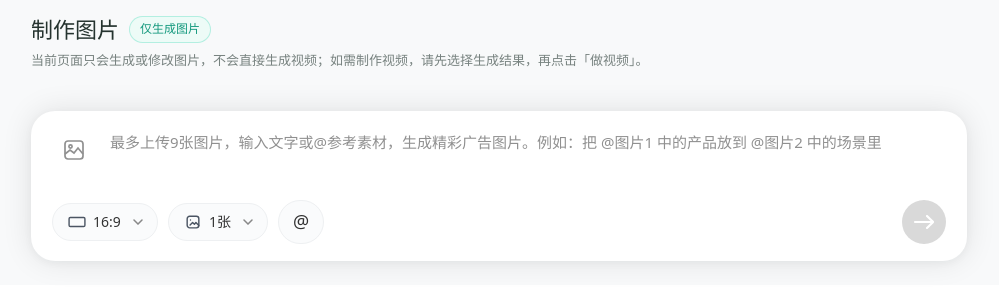
ImageChat › keeps the composer when paid confirmation is cancelled and prevents duplicate submits while confirming
In the text box named "图片创作描述": (528, 157) [110, 128, 946, 186], type "保留这条提示词"
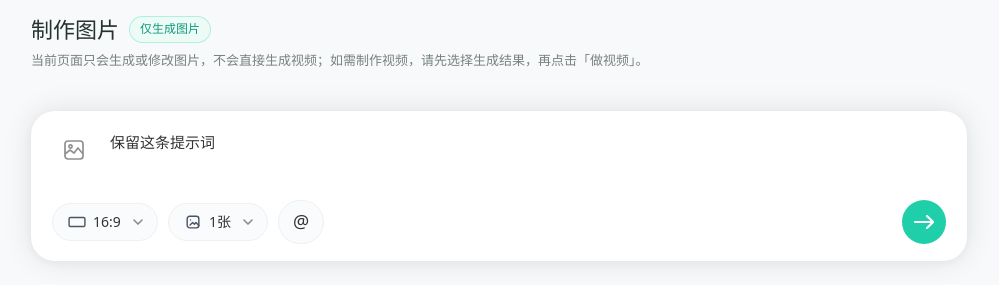
Click the button named "生成": (924, 222) [902, 200, 946, 244]
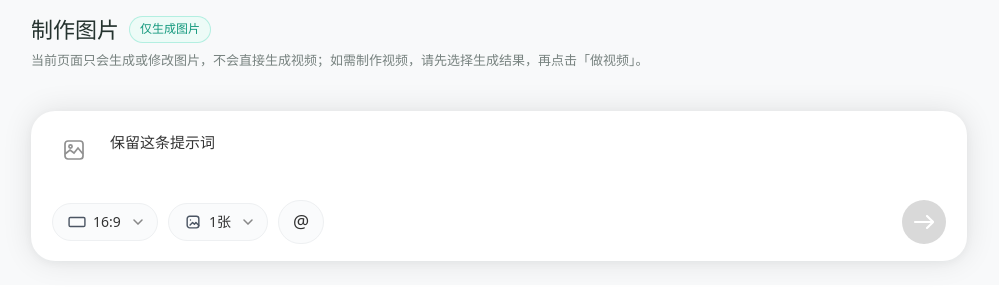
Now the button named "生成" is disabled, box [902, 200, 946, 244]
Type keys "{Control>}{Enter}{/Control}"
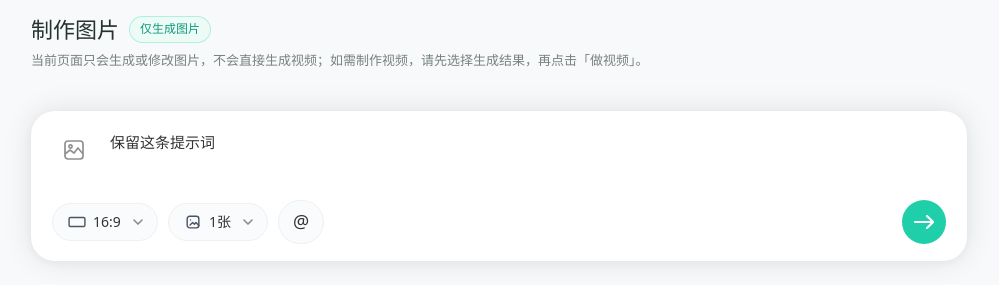
Now the button named "生成" is enabled, box [902, 200, 946, 244]
